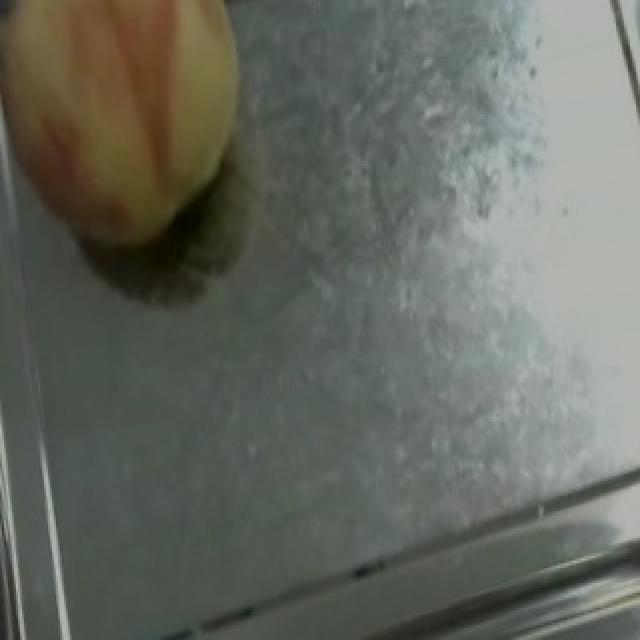Fruit: (0, 0, 282, 290)
